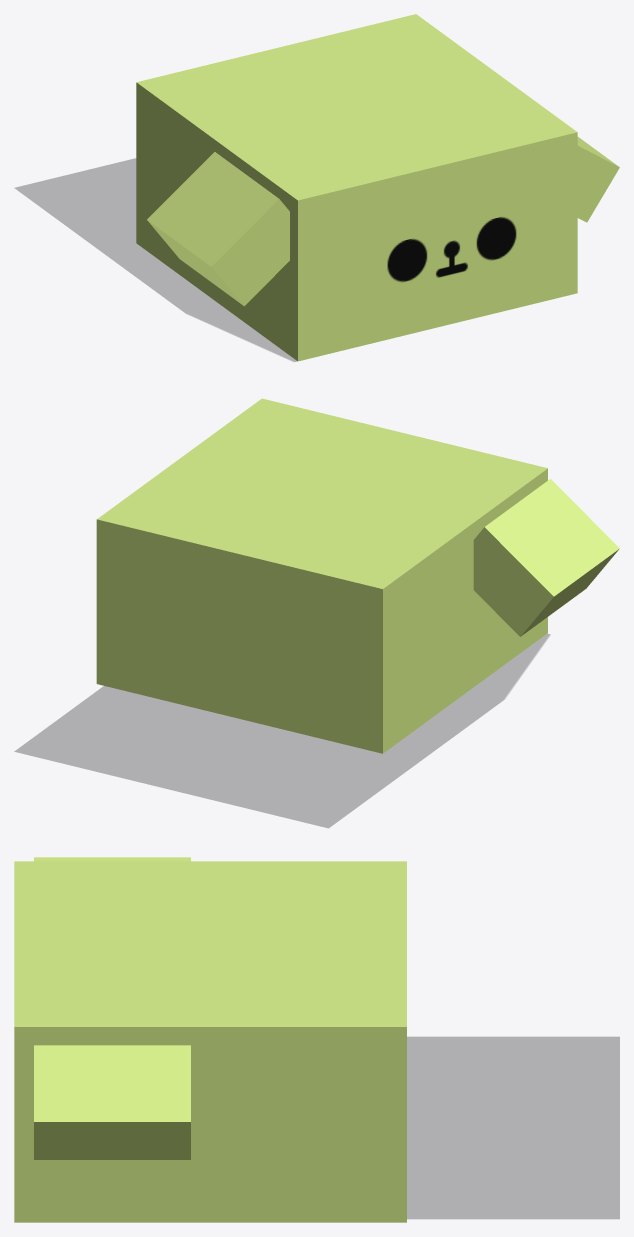
File: block_11.glb
The picture shows the model from 3 angles, top to bottom: view 1: azimuth 30°, elevation 25°; view 2: azimuth 150°, elevation 25°; view 3: azimuth 270°, elevation 25°; orthographic projection. The views are drawn at different scales.
Visible parts, largest first — view 1: hitObj, block; view 2: hitObj, block; view 3: hitObj, block.
Boxes of the visible parts, x1=… form: hitObj: x1=136, y1=14, x2=619, y2=361; block: x1=15, y1=158, x2=296, y2=361; hitObj: x1=96, y1=398, x2=619, y2=753; block: x1=14, y1=634, x2=549, y2=827; hitObj: x1=14, y1=857, x2=406, y2=1222; block: x1=407, y1=1037, x2=619, y2=1218.
Size of the model in its own units: 14.6 by 5.51 by 15.44.
Materials: 3 (2 with a texture image).
